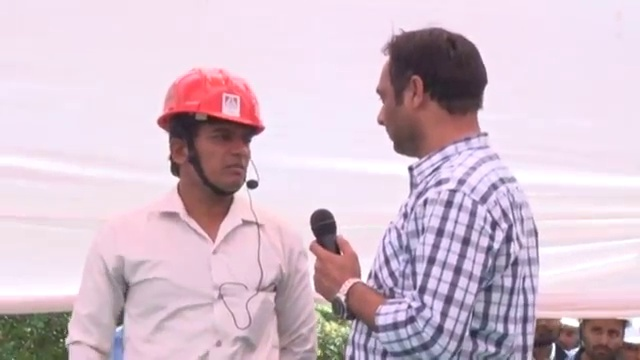helmet: (158, 61, 266, 137), (624, 319, 640, 346)
helmet_off: (376, 35, 492, 162), (572, 317, 628, 360), (534, 317, 564, 353), (557, 321, 583, 349)
helmet_on: (161, 62, 267, 206), (623, 320, 640, 360)
person: (55, 61, 329, 356), (327, 34, 545, 359), (534, 318, 569, 360)
